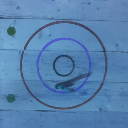Axe Tip: (57, 81, 71, 85)
